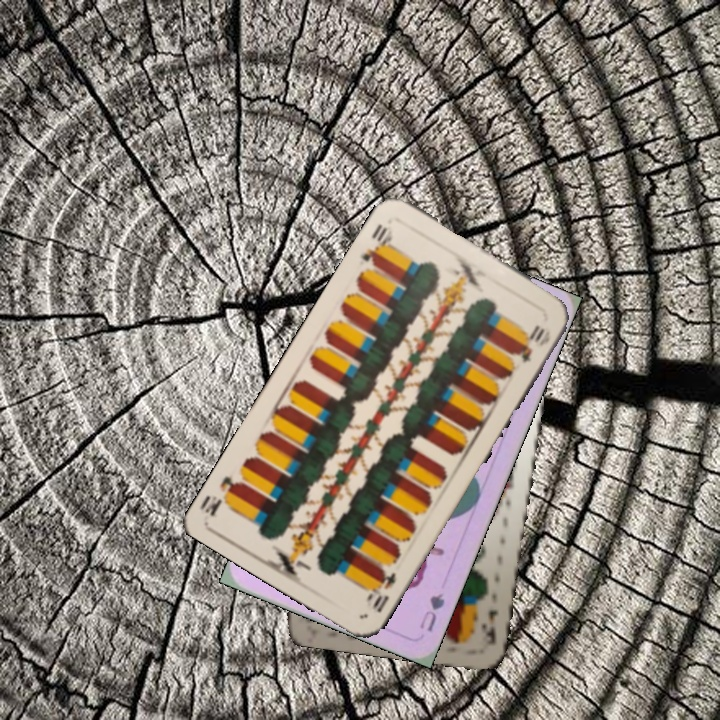E10: (357, 219, 396, 269), (362, 565, 399, 615)
EK: (478, 606, 501, 646)
GU: (415, 589, 448, 635)
